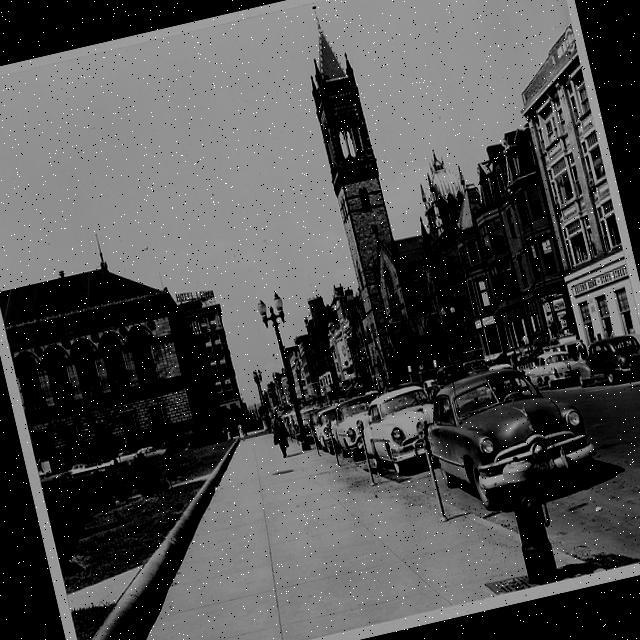fire_hydrant: (500, 448, 564, 588)
